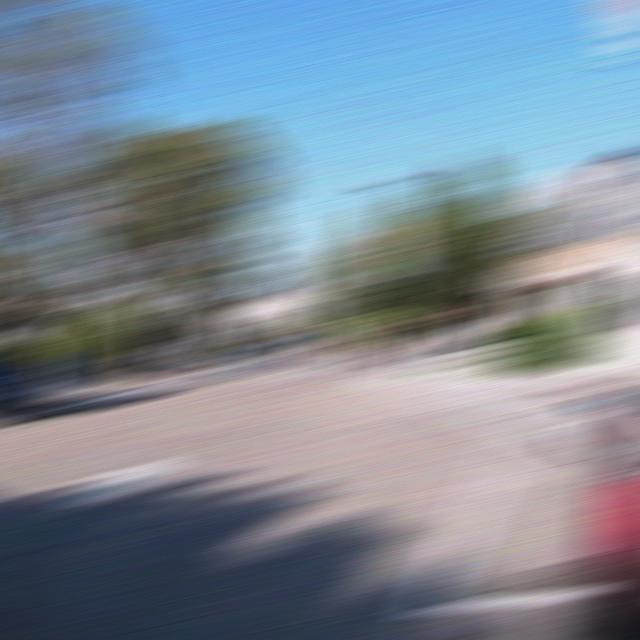stop_sign: (402, 309, 441, 324)
